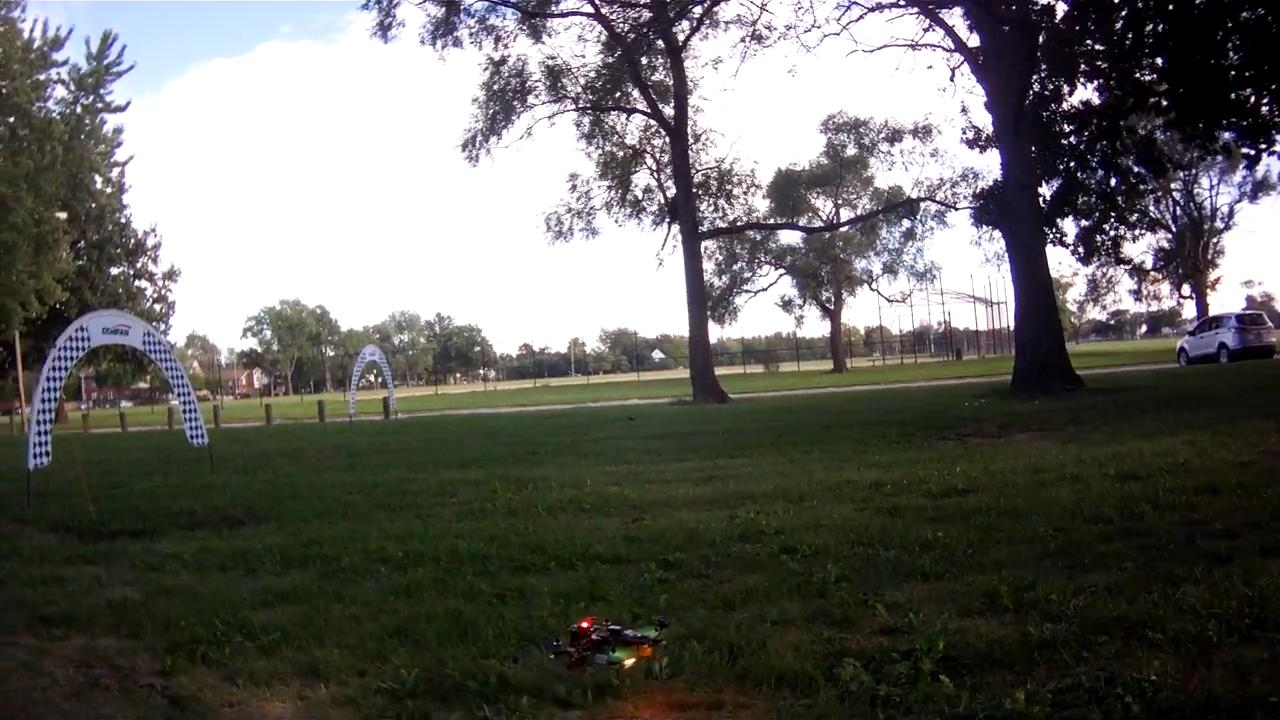gate: (23, 304, 212, 469), (345, 342, 396, 424)
